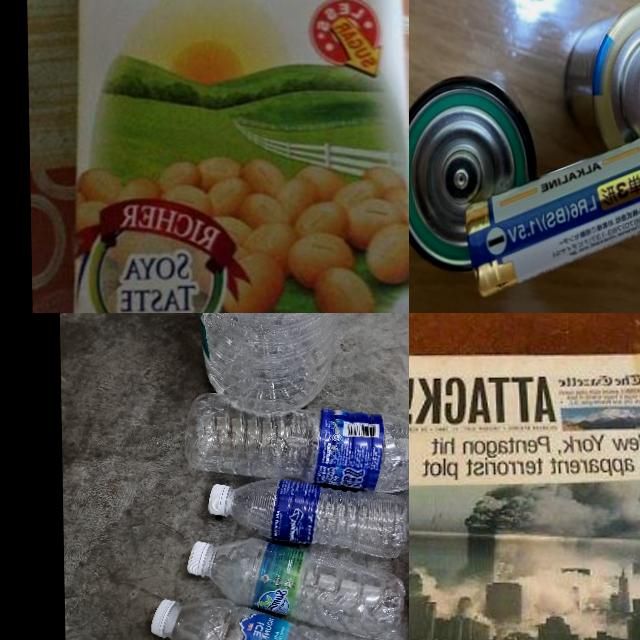bateria: (459, 117, 640, 293), (409, 72, 546, 278), (553, 0, 640, 202)
caixinha: (57, 0, 409, 313)
garrafa plástica: (180, 389, 409, 496), (205, 536, 405, 640), (178, 313, 355, 415), (225, 476, 409, 562), (166, 597, 392, 640)
papel: (409, 350, 640, 640)
tampa plástica: (150, 600, 177, 638), (186, 540, 212, 576), (208, 484, 227, 516)
